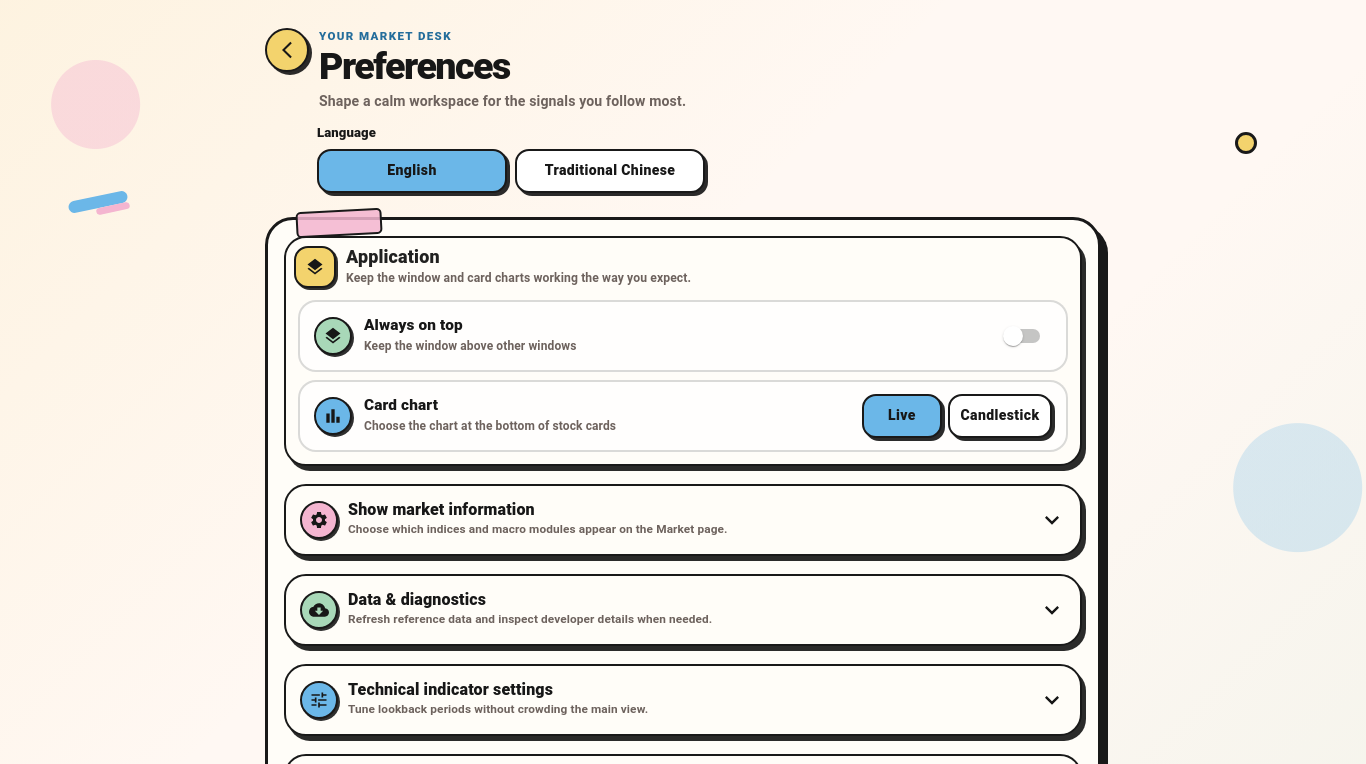
Scenario: Settings page › changes the i18next language from the explicit language options
Click the button "Traditional Chinese" at (610, 170), box [515, 148, 705, 192]
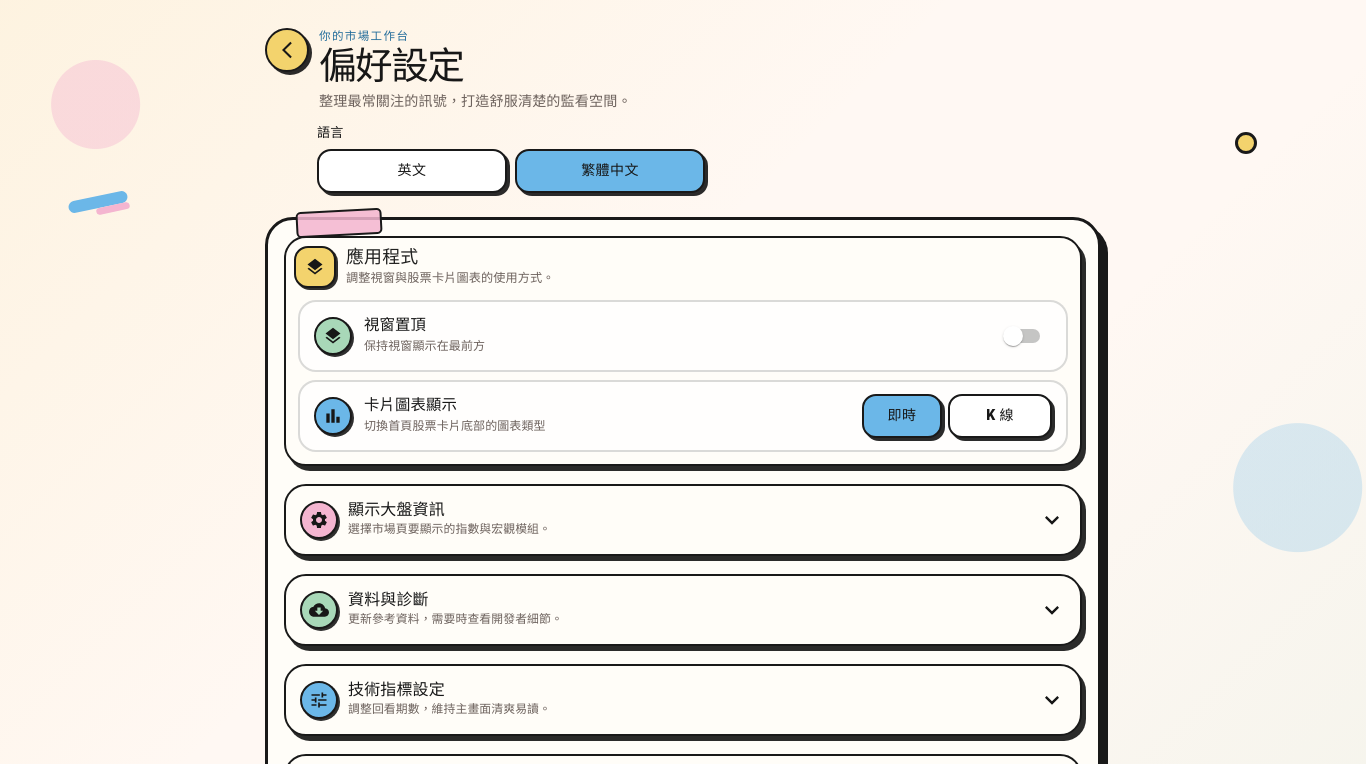
Result: the heading "偏好設定" is shown at [319, 44, 463, 88]
